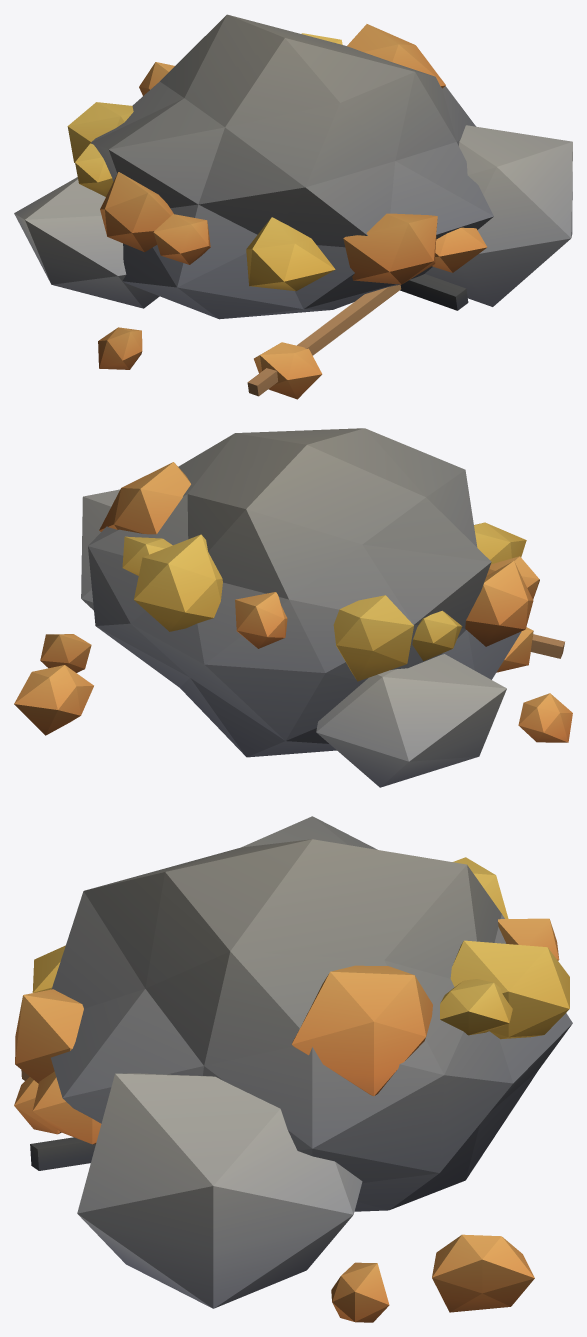
Rendered from res_ore_copper.glb.
3 renders of one model, top to bottom at view 1: azimuth 30°, elevation 25°; view 2: azimuth 150°, elevation 25°; view 3: azimuth 270°, elevation 25°, orthographic. The views are drawn at different scales.
Parts seen in each view (by area): view 1: res_ore_copper; view 2: res_ore_copper; view 3: res_ore_copper.
Part boxes in pixels (x1,y1,x2,y2): res_ore_copper: (14,14,572,399); res_ore_copper: (14,428,572,787); res_ore_copper: (14,816,572,1322).
Bounding box in the file's own units: 5.18 × 2.85 × 3.95.
1 material, 1 textured.
